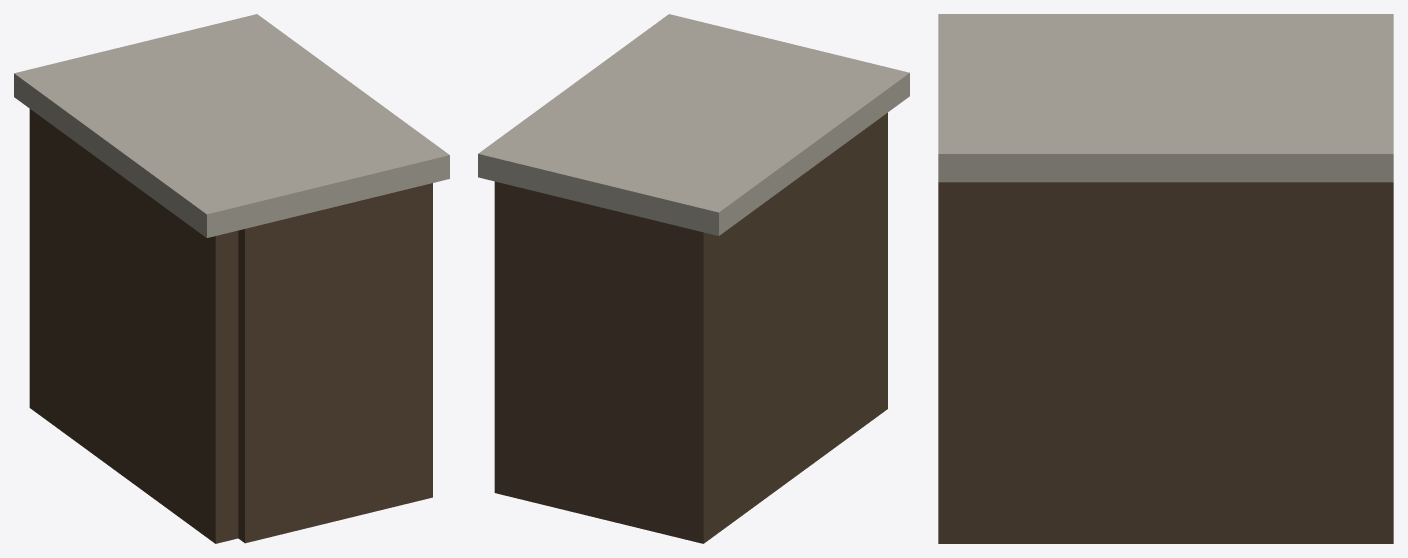
Rendered from SM_shopCounter_01.glb.
The picture shows the model from 3 angles, left to right: view 1: azimuth 30°, elevation 25°; view 2: azimuth 150°, elevation 25°; view 3: azimuth 270°, elevation 25°; orthographic projection. The views are drawn at different scales.
Visible parts, largest first — view 1: SM_shopCounter_01; view 2: SM_shopCounter_01; view 3: SM_shopCounter_01.
Boxes of the visible parts, x1=… form: SM_shopCounter_01: x1=14, y1=14, x2=449, y2=543; SM_shopCounter_01: x1=478, y1=14, x2=909, y2=543; SM_shopCounter_01: x1=938, y1=14, x2=1393, y2=543.
Size of the model in its own units: 0.7281 by 0.9681 by 1.
Materials: 1 (1 with a texture image).
